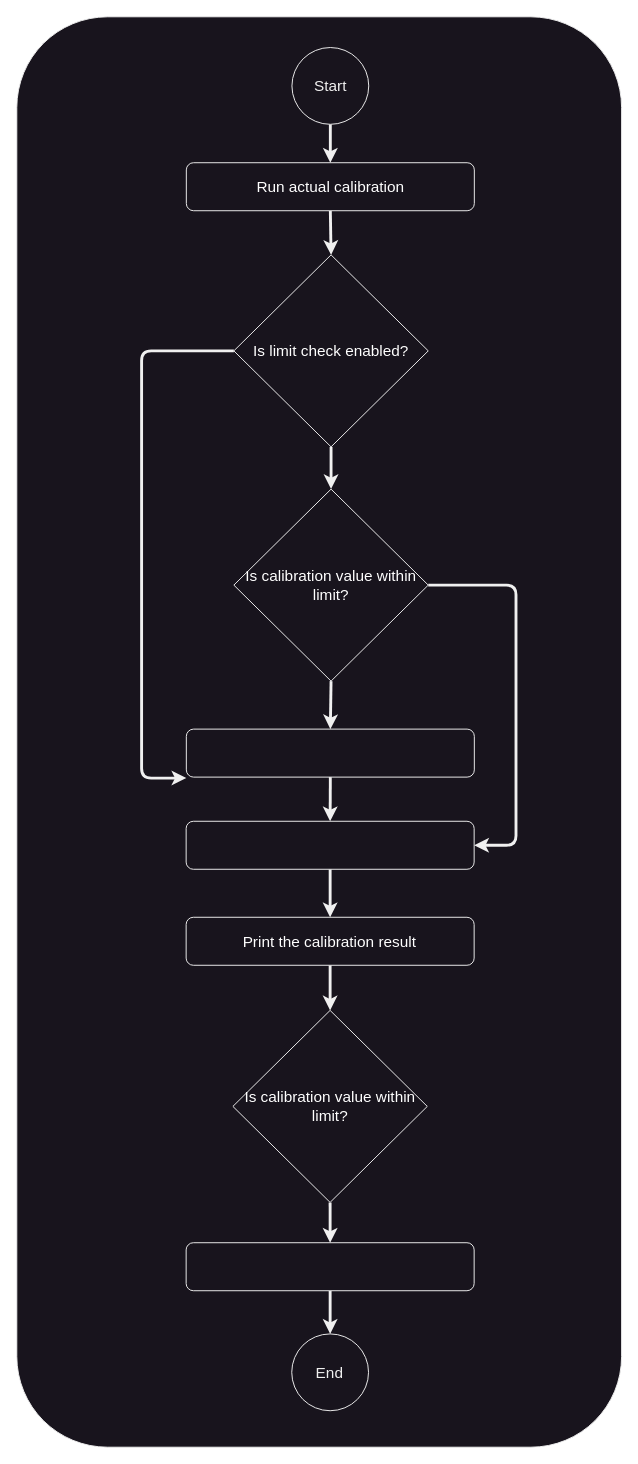
The diagram is 638 pixels wide and 1464 high, and some of its shapes have lost their labels. Here are the shapes that lost their labels. From the top down, the box of each, then its label:
(185, 728, 474, 777): Consider the calibration passed
(185, 820, 474, 869): Consider the calibration failed
(185, 1242, 474, 1291): Execute TdrOverride from specified file
